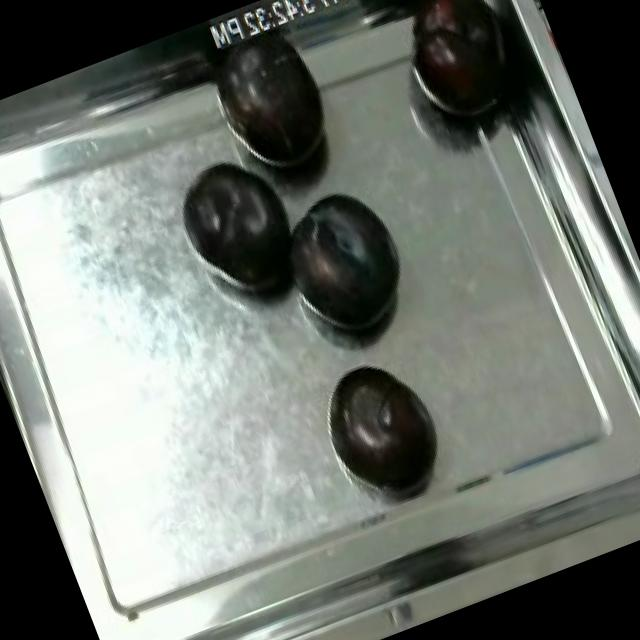Fruit: (266, 170, 428, 354), (162, 137, 320, 320), (321, 345, 454, 501), (382, 0, 528, 139)
